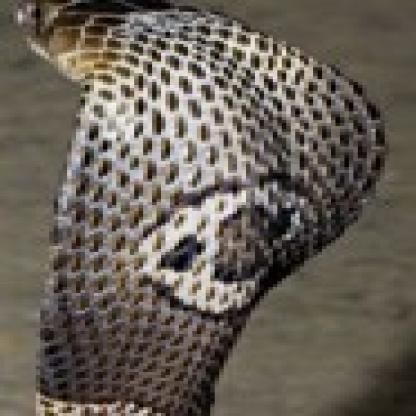Snake: (3, 0, 390, 416)
